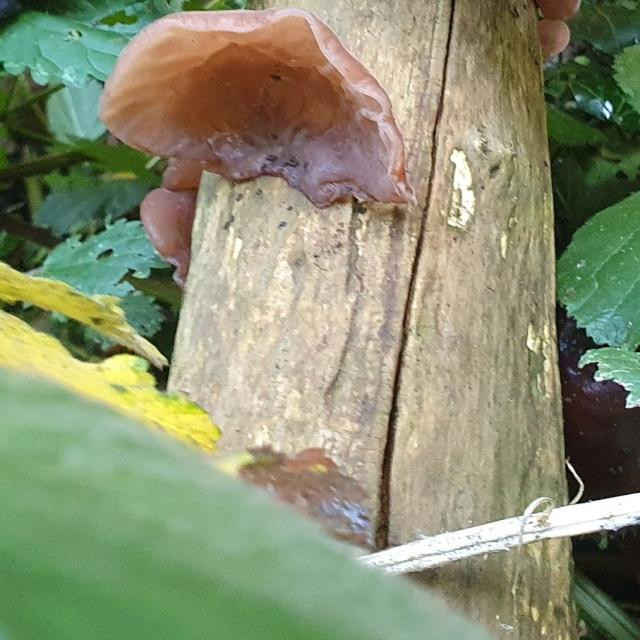Fase Muda: (536, 14, 574, 65), (163, 154, 204, 194), (533, 0, 584, 21)
Matang: (97, 5, 419, 211), (139, 186, 195, 284)
